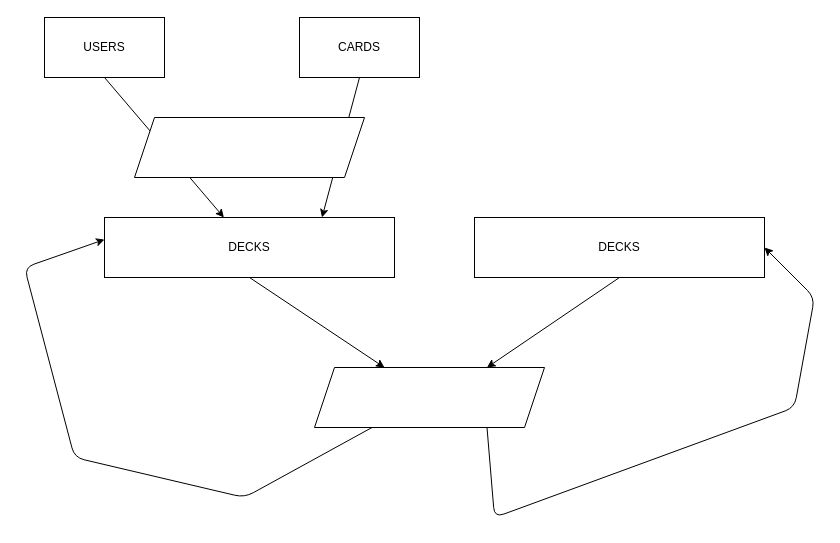
This 840x543 diagram has some shape labels left out. Each missing label, with the centre of its shape:
"CATCH" belongs at [249,147].
"FIGHT" belongs at [429,397].
